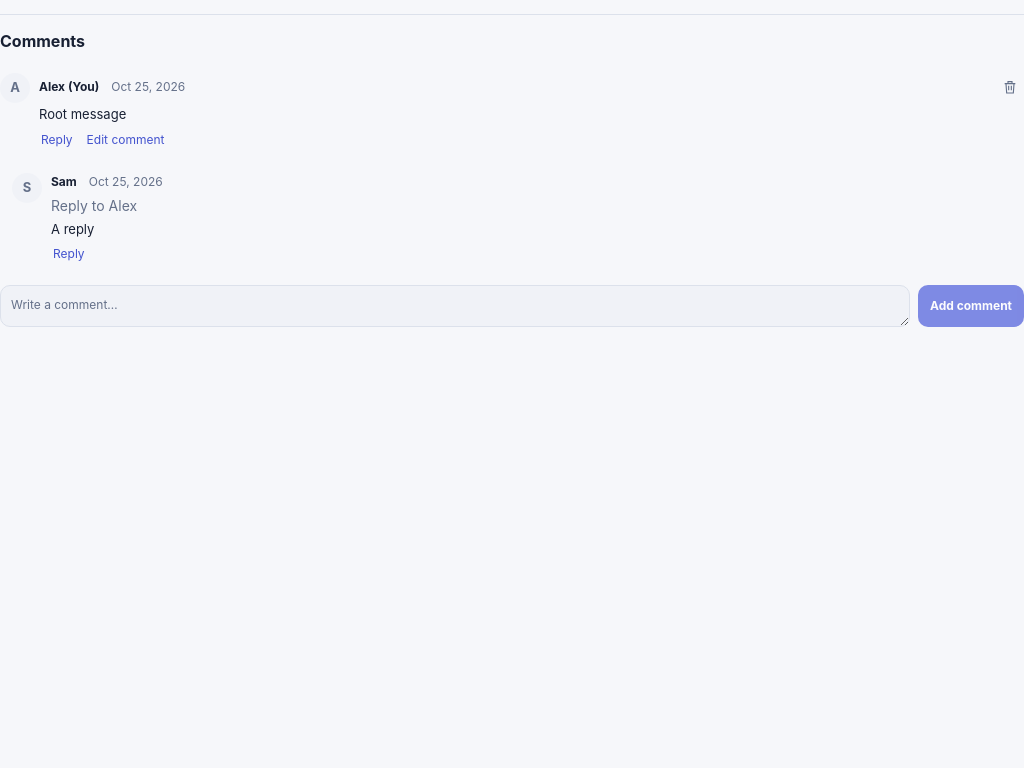
Test: keeps the list unchanged when deletion is cancelled
Click the button named "Delete comment". click: [1010, 87]
box: top-left (996, 73), bottom-right (1023, 101)
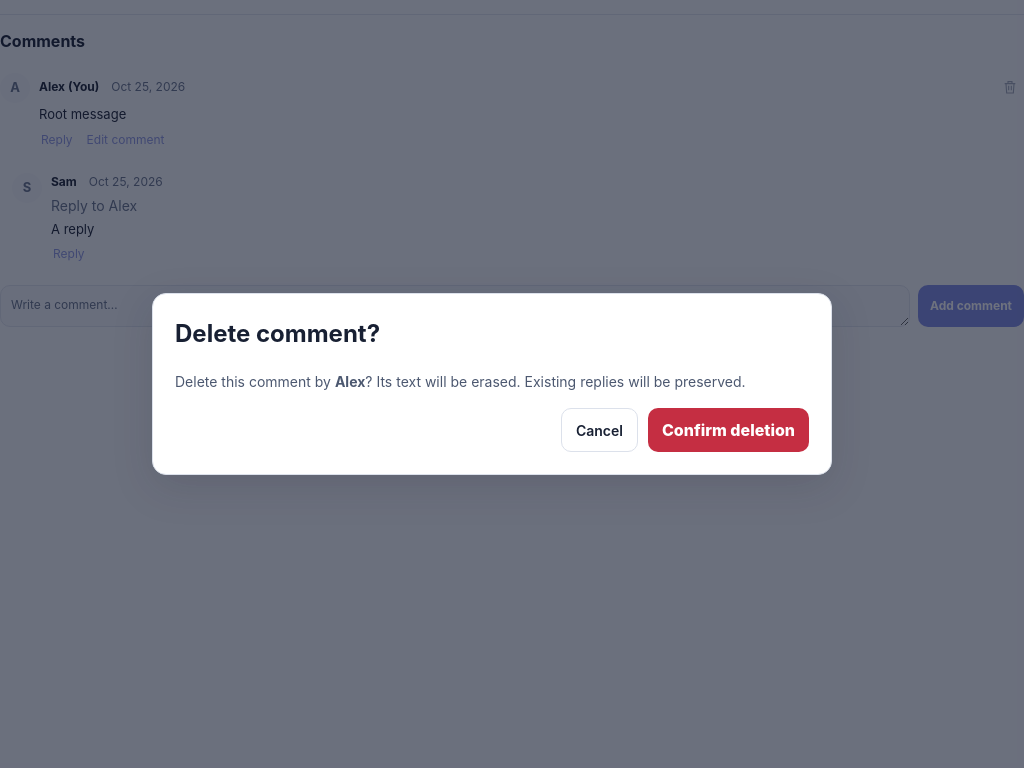
Click the button "Cancel". click: [599, 430]
box: top-left (561, 408), bottom-right (638, 452)
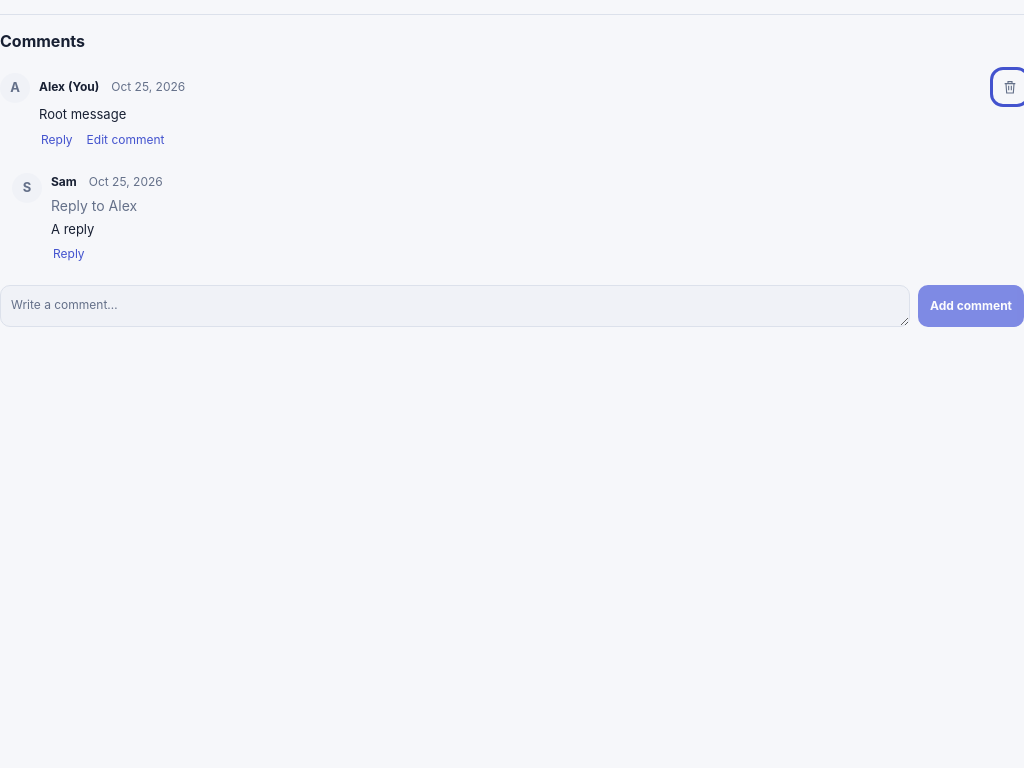
Expected: the text "Root message" is shown, top-left (39, 106), bottom-right (126, 122)
Expected: the dialog is gone
